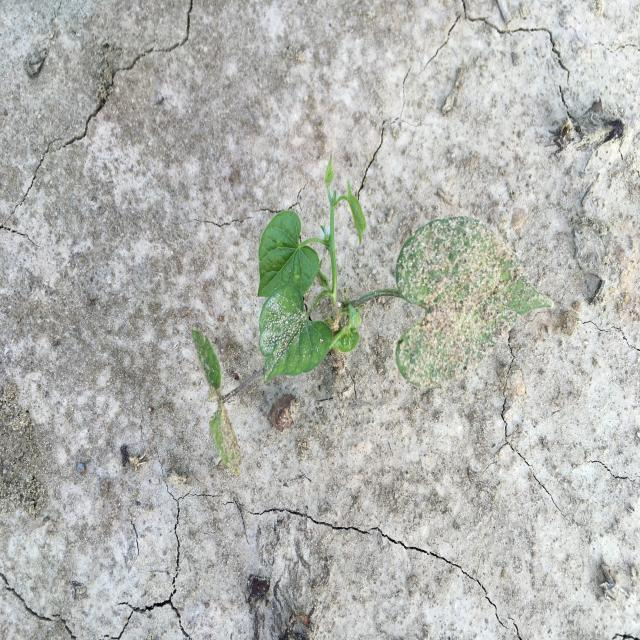MorningGlory: (188, 152, 555, 479)
